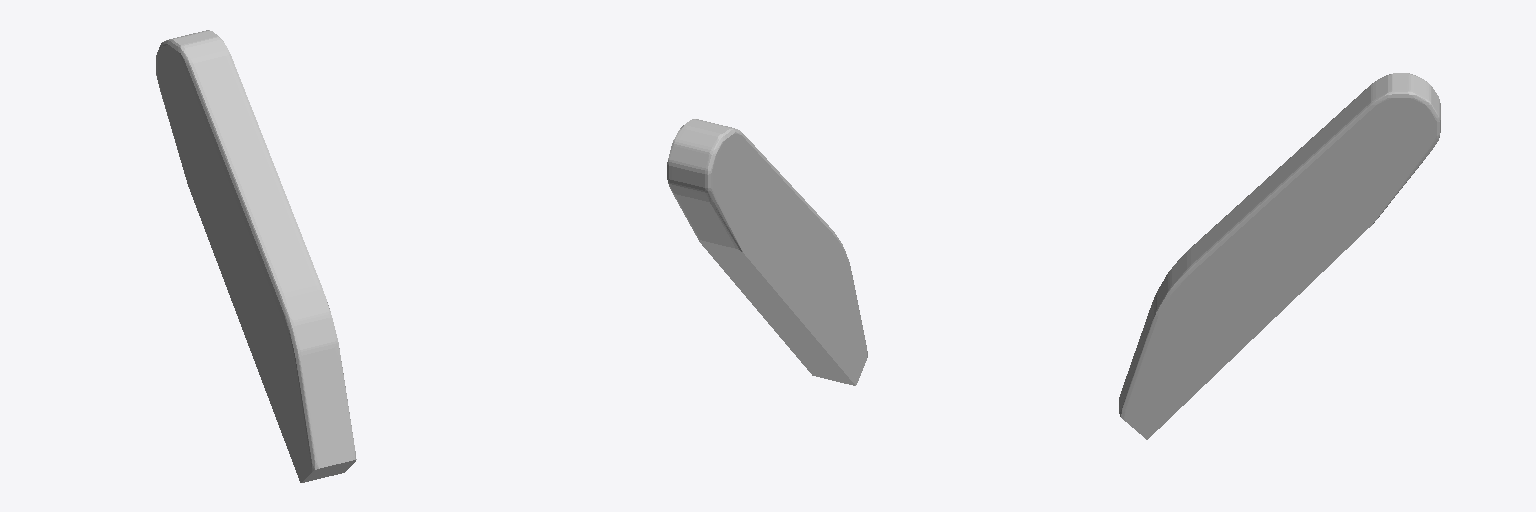
Rendered from Carbon_Mov_Finger_021_v1_1_mesh_collision_16.obj.
The picture shows the model from 3 angles: view 1: azimuth 30°, elevation 25°; view 2: azimuth 150°, elevation 25°; view 3: azimuth 270°, elevation 25°; orthographic projection.
Bounding box in the file's own units: 0.0033 × 0.025 × 0.0209.